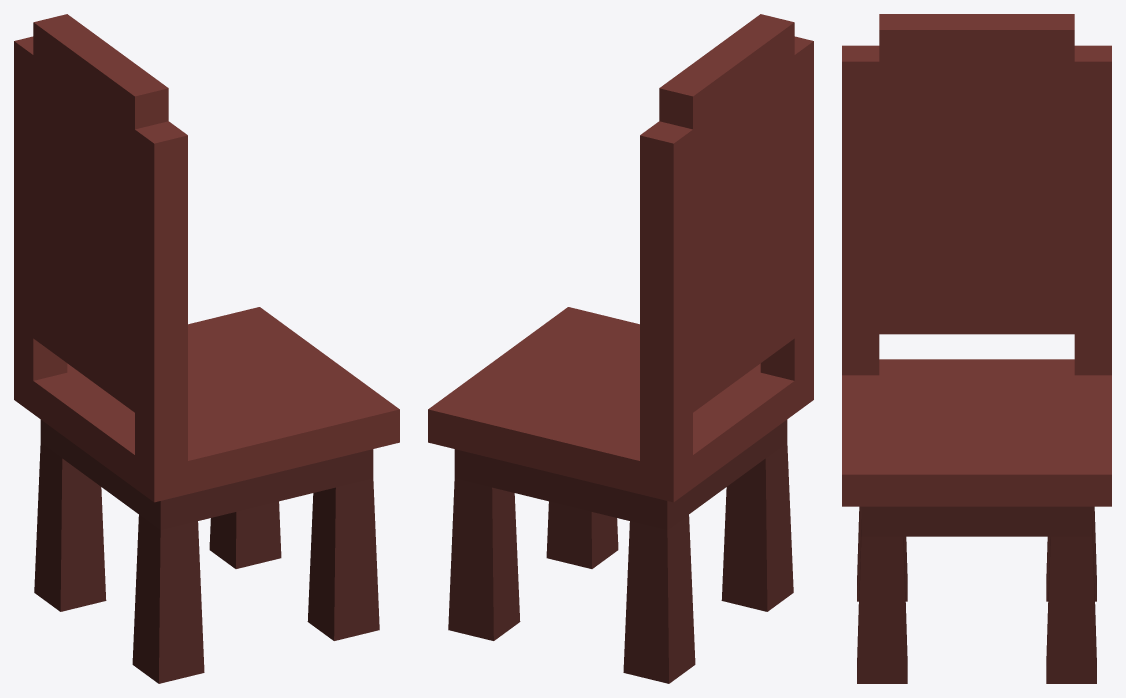
Rendered from quaternius-furniture-chair.glb.
3 renders of one model, left to right at view 1: azimuth 30°, elevation 25°; view 2: azimuth 150°, elevation 25°; view 3: azimuth 270°, elevation 25°, orthographic. The views are drawn at different scales.
Parts seen in each view (by area): view 1: Chair; view 2: Chair; view 3: Chair.
Part boxes in pixels (x1=…): Chair: x1=14, y1=14, x2=399, y2=683; Chair: x1=428, y1=14, x2=813, y2=683; Chair: x1=842, y1=14, x2=1111, y2=683.
Size of the model in its own units: 0.4378 by 0.9913 by 0.4326.
